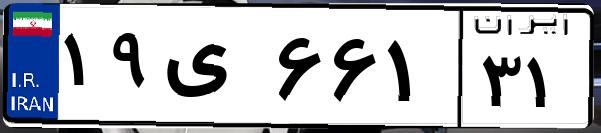1: (385, 28, 445, 110), (57, 26, 110, 100), (525, 38, 570, 115)
3: (475, 38, 525, 113)
6: (270, 28, 330, 110), (330, 28, 385, 110)
9: (110, 28, 158, 98)
ی: (158, 20, 270, 120)
